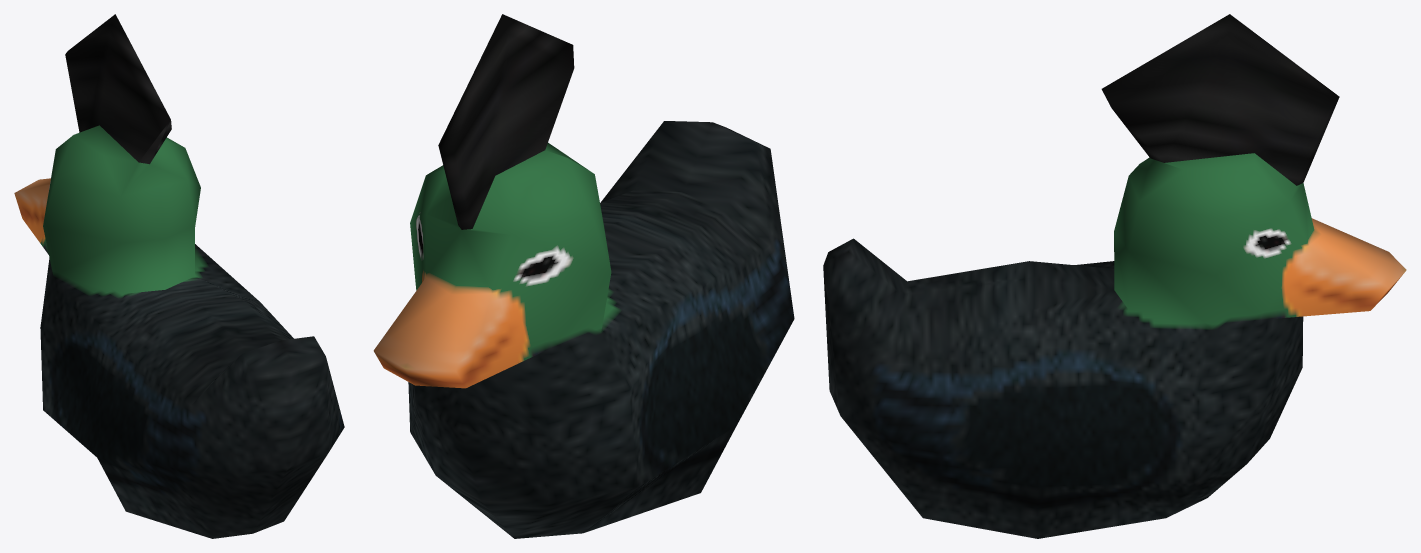
Rendered from duck_fooze.fbx.
The picture shows the model from 3 angles, left to right: view 1: azimuth 30°, elevation 25°; view 2: azimuth 150°, elevation 25°; view 3: azimuth 270°, elevation 25°; orthographic projection. The views are drawn at different scales.
Parts seen in each view (by area): view 1: fooze; view 2: fooze; view 3: fooze.
Part boxes in pixels (<box>): fooze: <box>14,14,344,538</box>; fooze: <box>373,14,794,538</box>; fooze: <box>823,14,1406,538</box>.
Size of the model in its own units: 0.1099 by 0.2172 by 0.2373.
